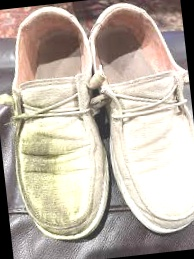earth: (20, 131, 64, 220)
